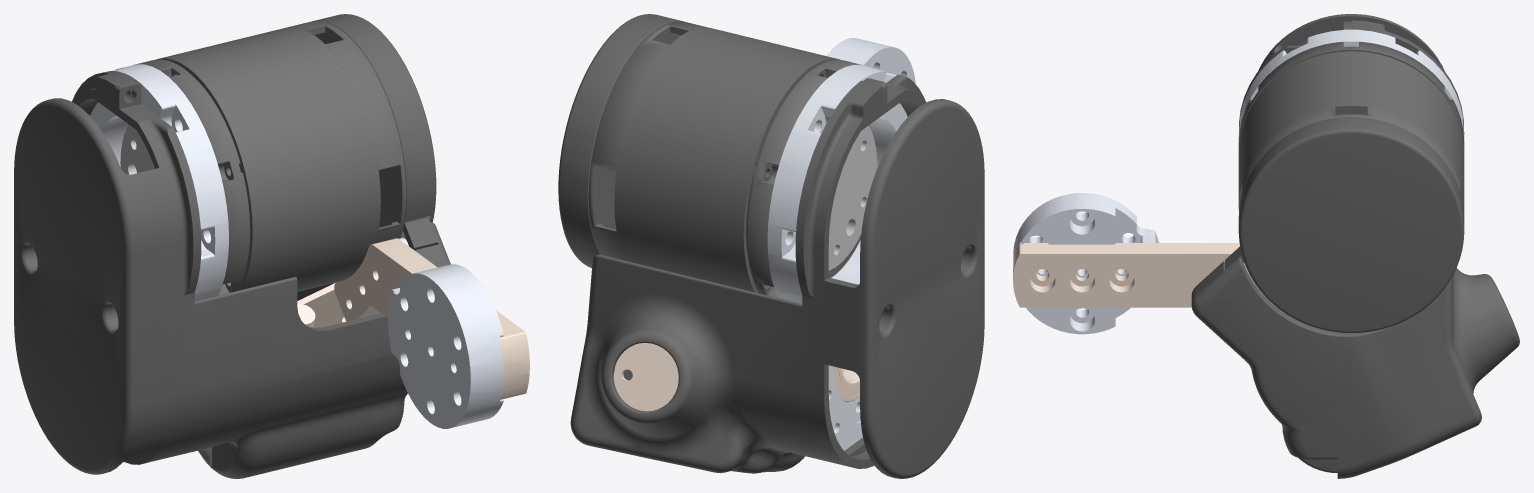
3 renders of one model, left to right at view 1: azimuth 30°, elevation 25°; view 2: azimuth 150°, elevation 25°; view 3: azimuth 270°, elevation 25°, orthographic. The views are drawn at different scales.
Parts seen in each view (by area): view 1: ee_base_link_01, ee_base_link_02, ee_base_link_00; view 2: ee_base_link_01, ee_base_link_02, ee_base_link_00; view 3: ee_base_link_01, ee_base_link_00, ee_base_link_02.
Part boxes in pixels (x1,y1,x2,y2): ee_base_link_01: [14, 14, 450, 478]; ee_base_link_02: [90, 64, 504, 428]; ee_base_link_00: [297, 238, 529, 399]; ee_base_link_01: [558, 14, 984, 478]; ee_base_link_02: [767, 38, 915, 450]; ee_base_link_00: [613, 343, 859, 411]; ee_base_link_01: [1191, 14, 1519, 478]; ee_base_link_00: [1013, 243, 1239, 307]; ee_base_link_02: [1013, 29, 1464, 334].
Size of the model in its own units: 0.077 by 0.0991 by 0.128.
